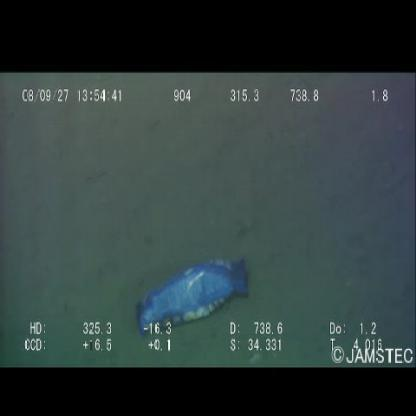Rác: (130, 251, 260, 343)
